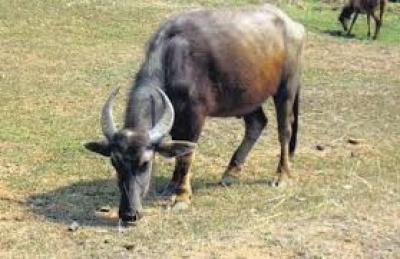buffalo: (85, 4, 303, 226)
